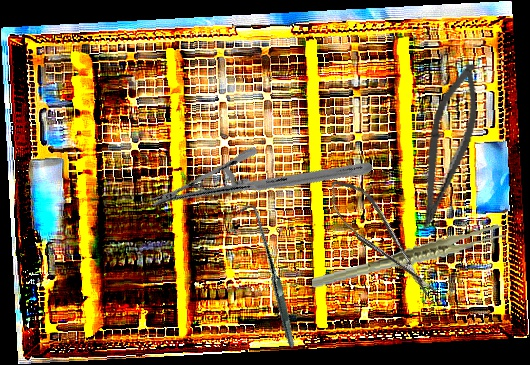Hook Surgical: (196, 201, 340, 349)
Micro Scissor: (320, 169, 444, 310), (410, 58, 488, 236)
Needle Holder: (149, 79, 374, 290)
Tissue Forceps: (308, 223, 508, 290)
